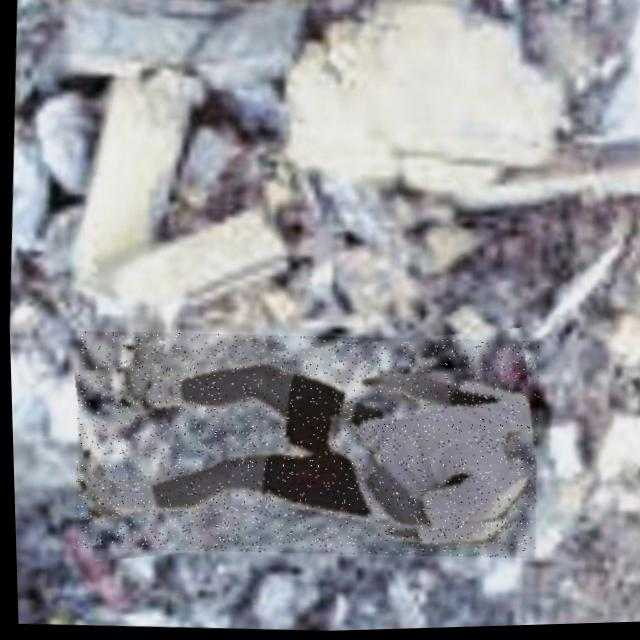Person in Rubble: (65, 321, 542, 573)
